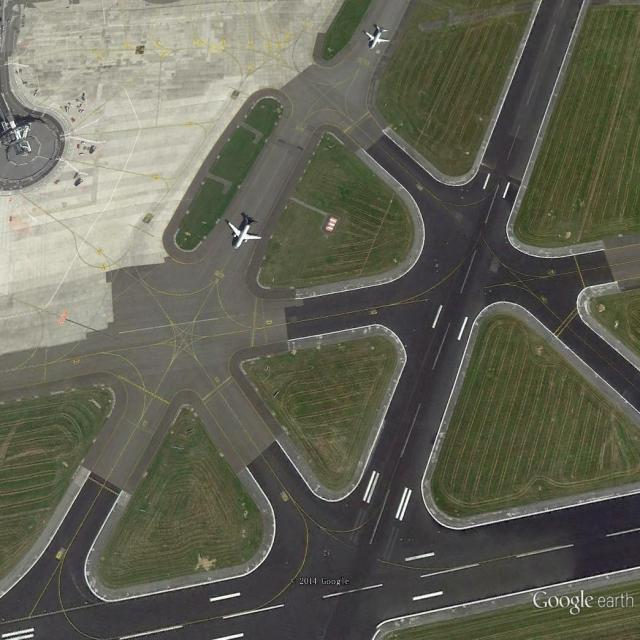aircraft: (225, 213, 267, 252), (361, 24, 393, 52)
